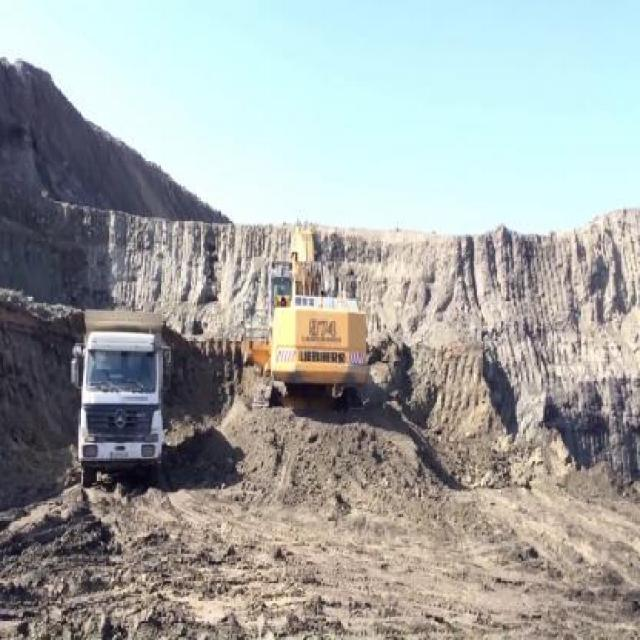Dump Truck: (73, 297, 172, 488)
Excavator: (238, 211, 376, 407)
